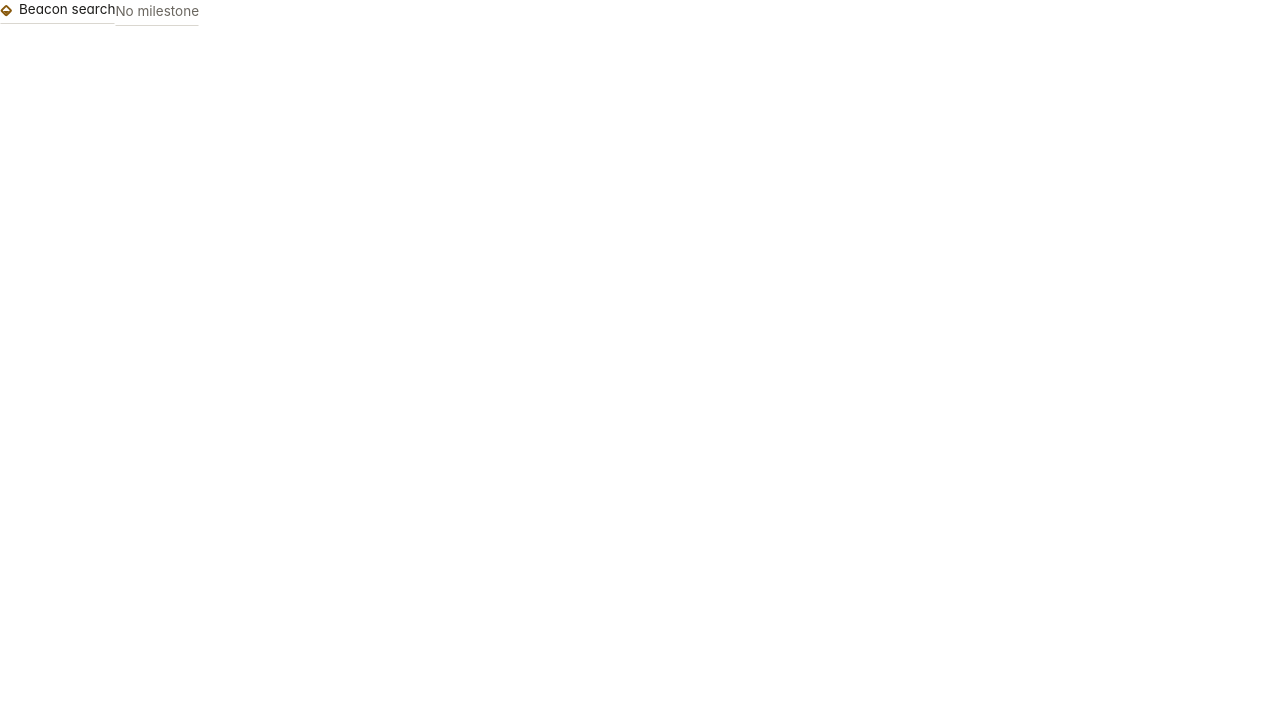
it: ProjectPicker and MilestonePicker › status squares, notes, groups and none options
Later steps or results of the test are not shown.
Expected: the button with aria-label "Milestone: No milestone" is shown, [115,2,199,22]
Click the button with aria-label "Project" at (58, 10), box [0,0,115,20]
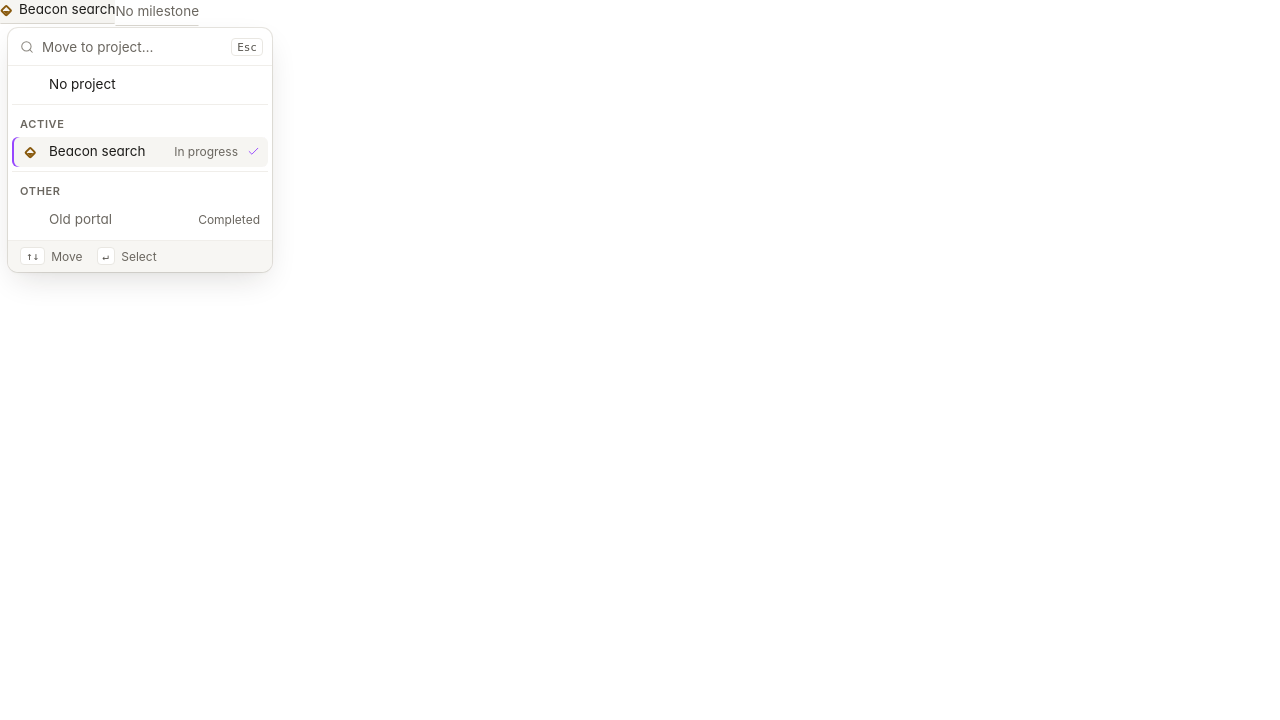
Expected: the picture named "At risk" in the row of "In progress" is shown, [24,146,36,158]
